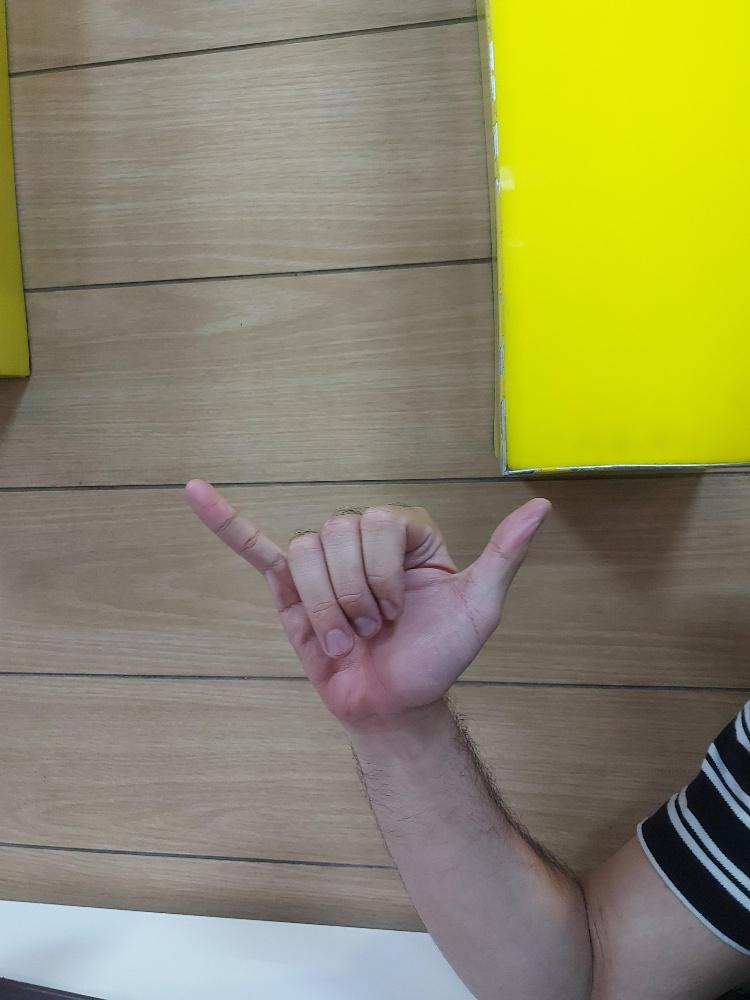y: (180, 472, 550, 728)
